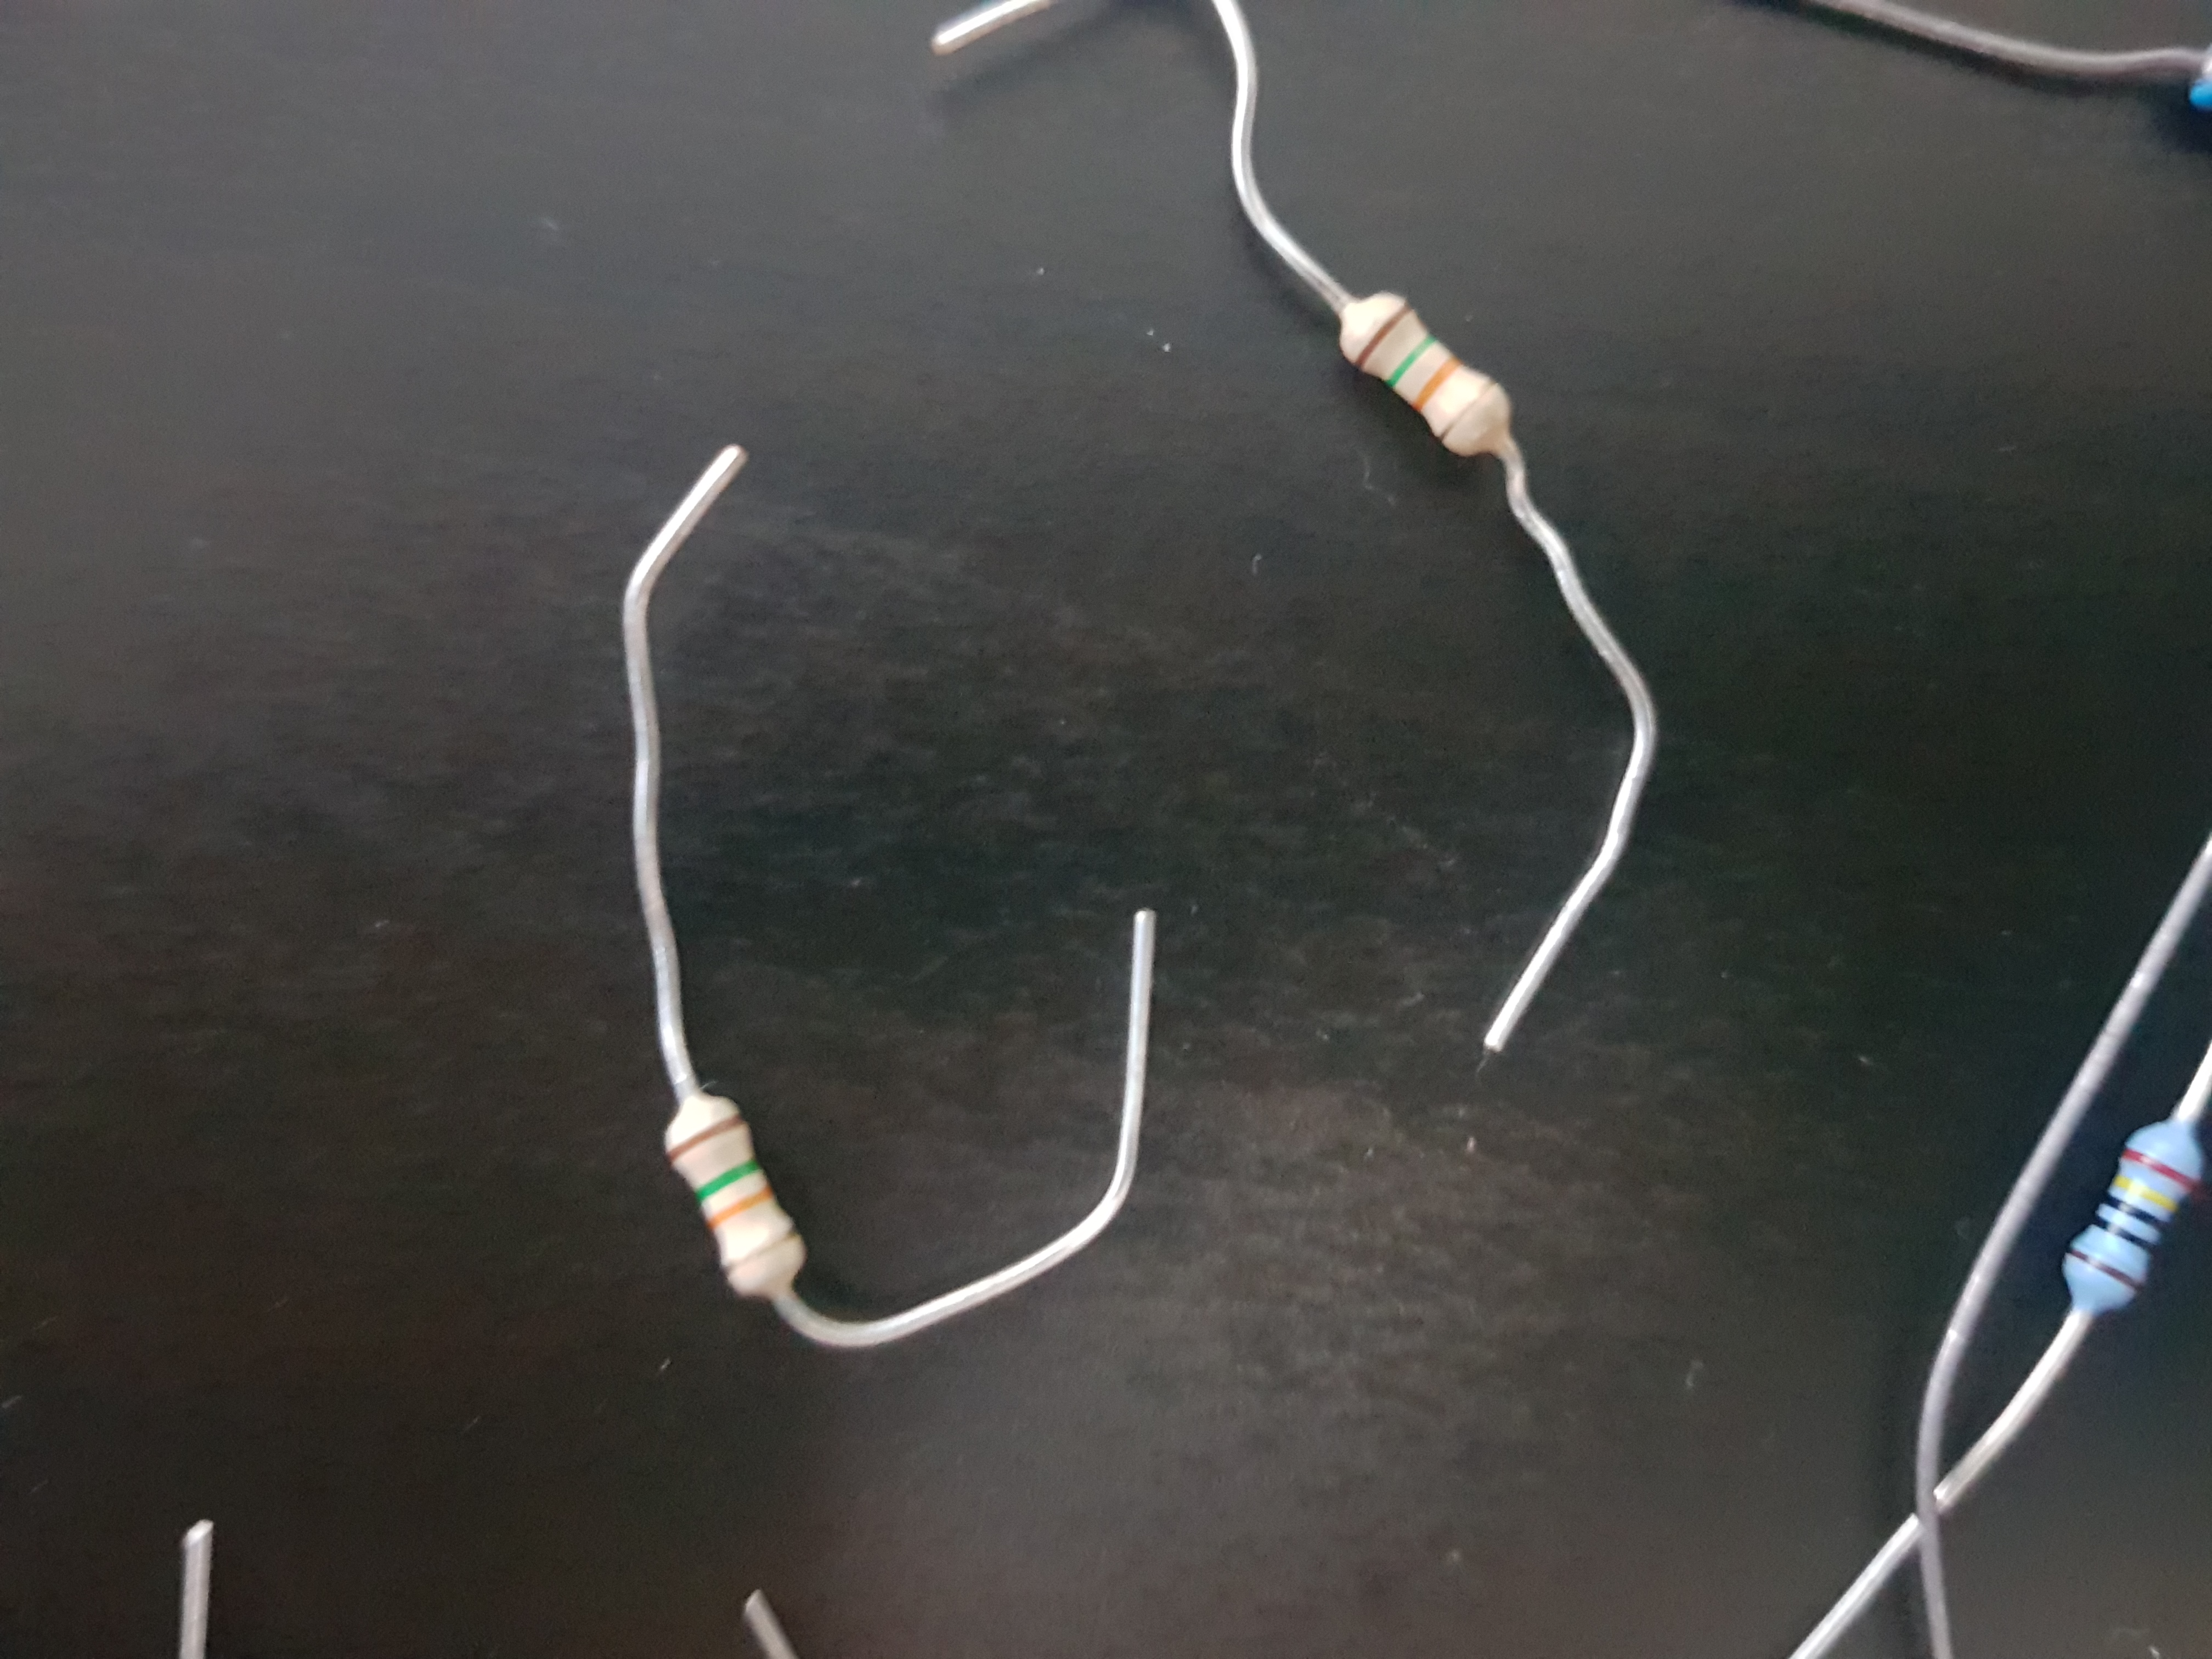resistor: (1179, 239, 1618, 582), (568, 1021, 920, 1384), (2031, 974, 2212, 1399)
